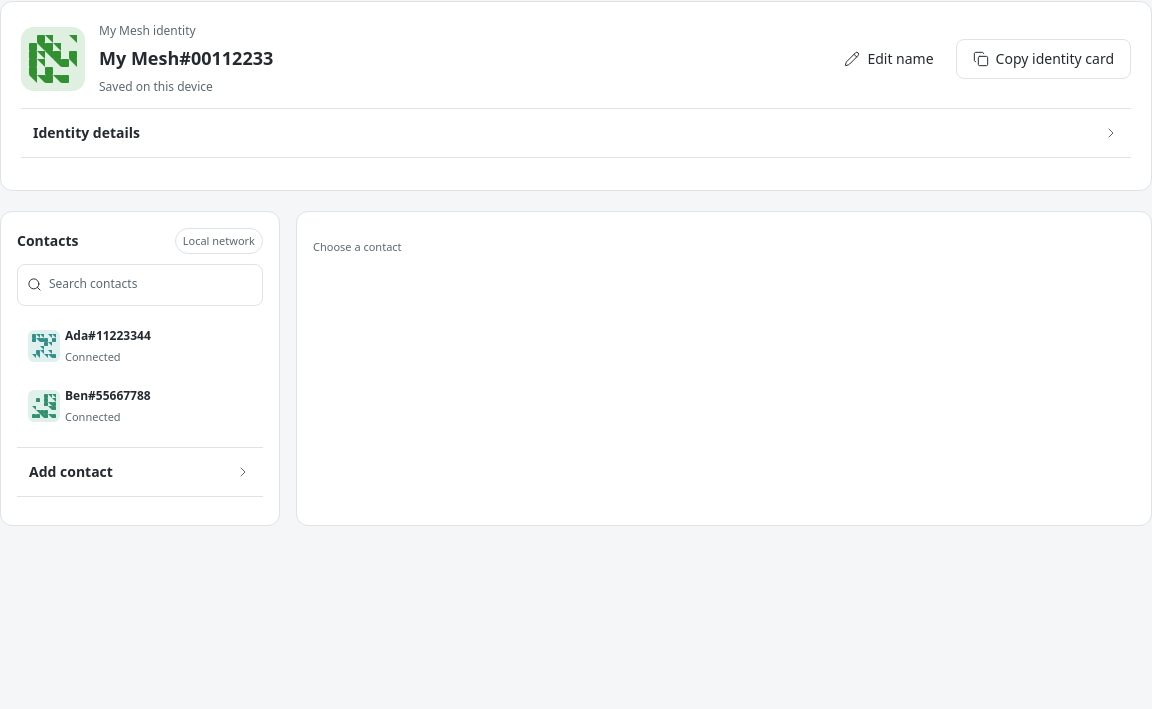
Test case: maps a game-session public-route conflict to a brief retry action without exposing its code
This screenshot has width=1152, height=709.
Click the button "Add contact" at (140, 472), box top-left (17, 448), bottom-right (263, 496)
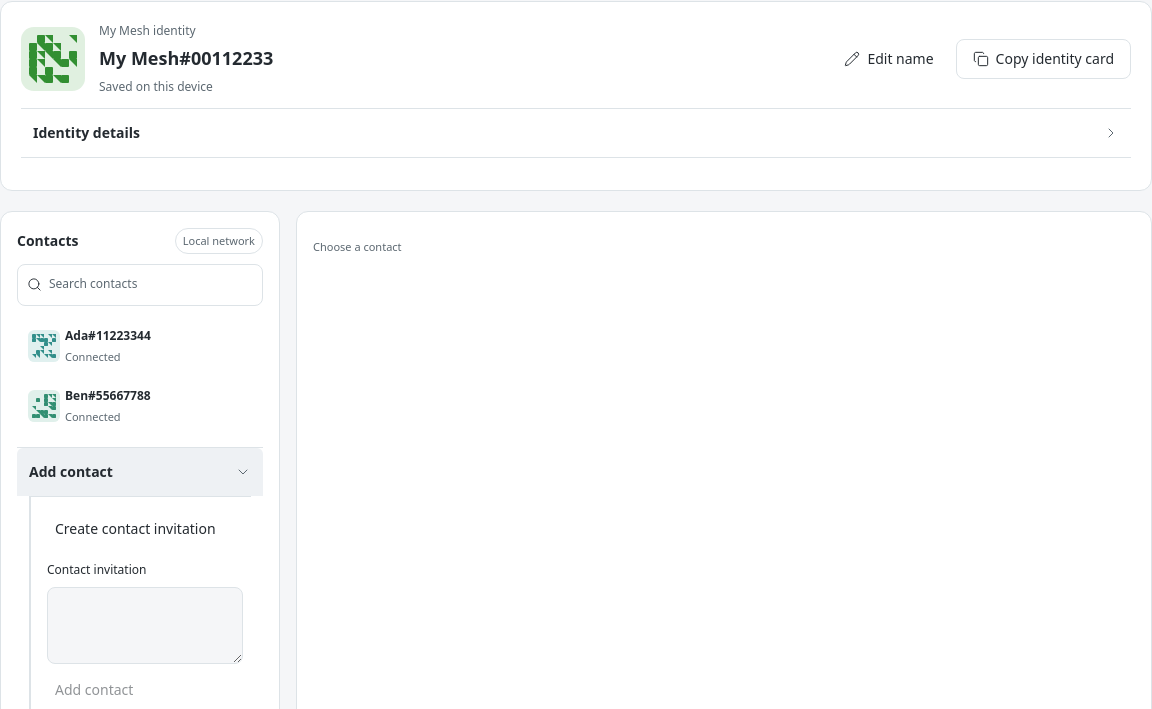
Click the button "Create contact invitation" at (135, 529), box top-left (47, 513), bottom-right (224, 545)
(page scrolled)
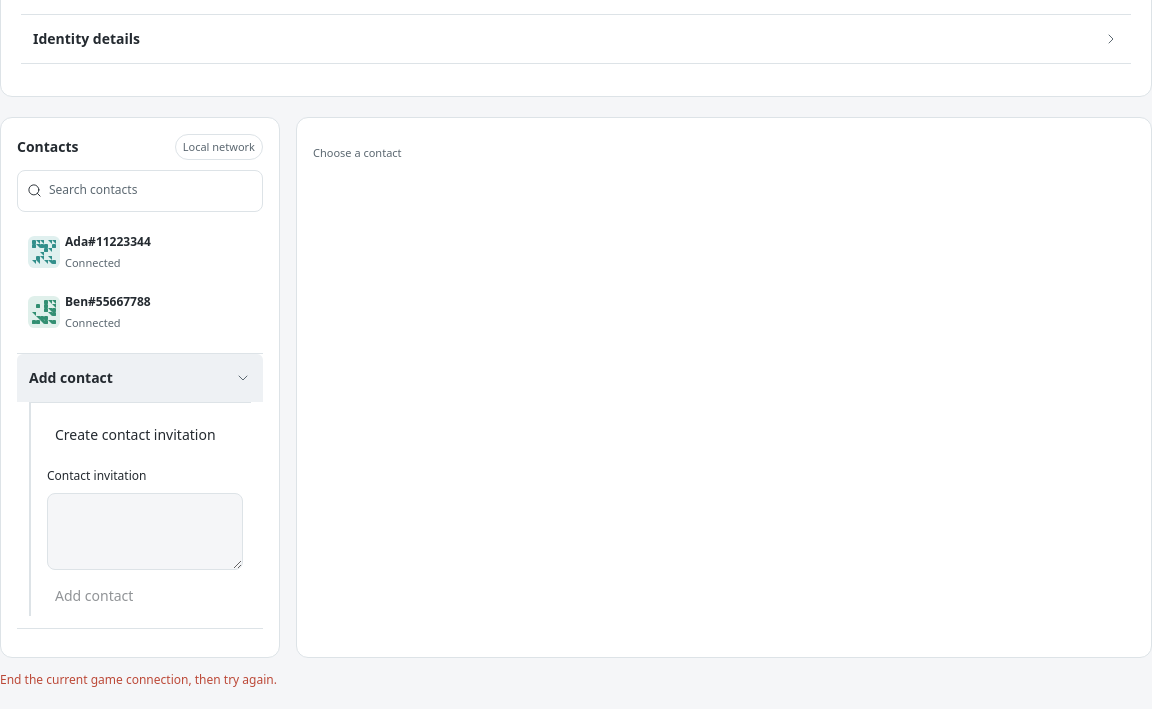
Expected: the message "End the current game connection, then try again." is shown, top-left (0, 671), bottom-right (277, 688)
